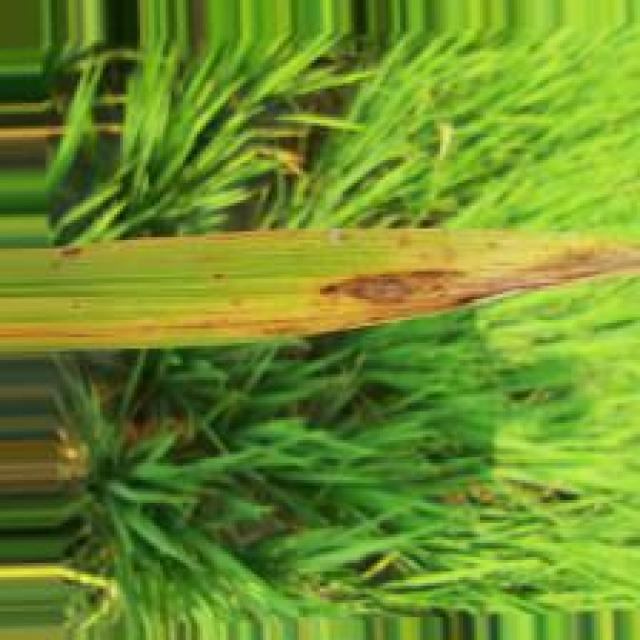Bacterial_Leaf_Blight: (0, 222, 636, 352)
